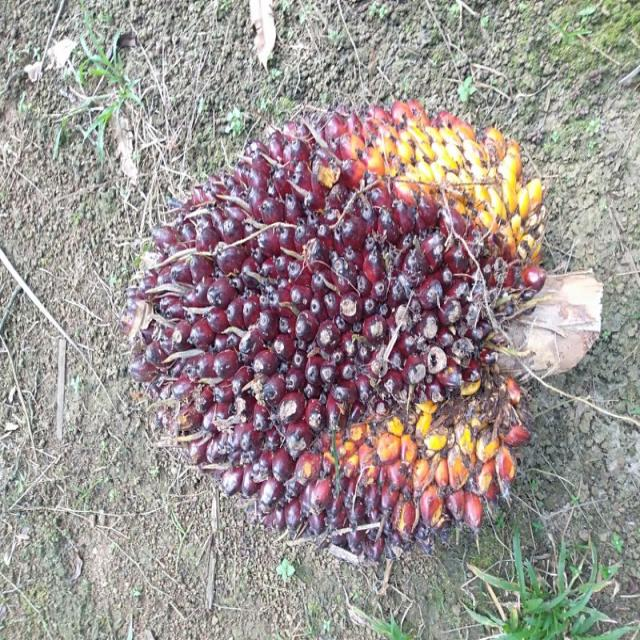fraksi 1: (117, 104, 626, 630)
